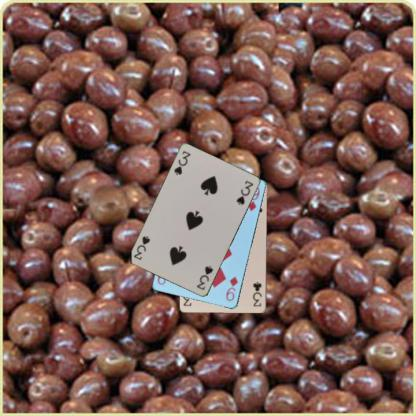3c: (250, 279, 263, 307)
3s: (194, 263, 214, 292), (172, 148, 192, 177)
9d: (224, 274, 239, 302)
